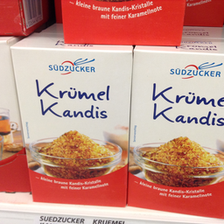tomato_sauce: (10, 33, 132, 210), (128, 44, 224, 217)
